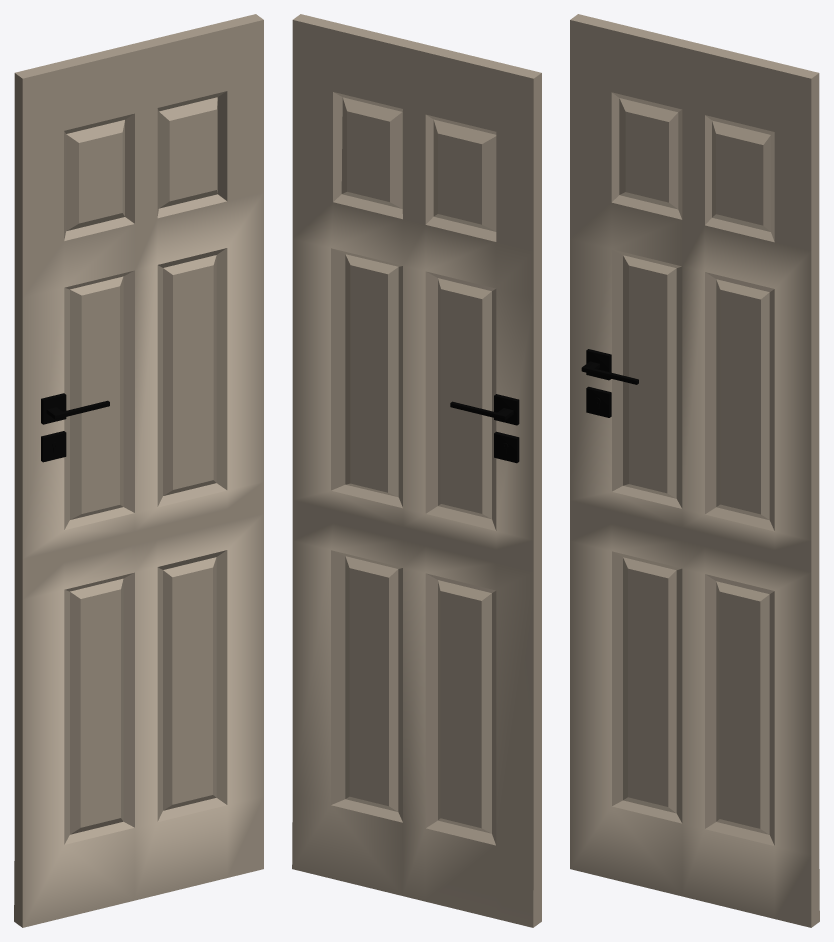
Rendered from SC_4_full1_door.glb.
3 renders of one model, left to right at view 1: azimuth 30°, elevation 25°; view 2: azimuth 150°, elevation 25°; view 3: azimuth 330°, elevation 25°, orthographic.
Parts seen in each view (by area): view 1: SC_4__1_door_; view 2: SC_4__1_door_; view 3: SC_4__1_door_.
Part boxes in pixels (left/top/right/bottom): SC_4__1_door_: left=14, top=14, right=263, bottom=927; SC_4__1_door_: left=292, top=14, right=541, bottom=927; SC_4__1_door_: left=570, top=14, right=819, bottom=927.
Bounding box in the file's own units: 0.523 × 1.76 × 0.1089.
Materials: 1 (1 with a texture image).
